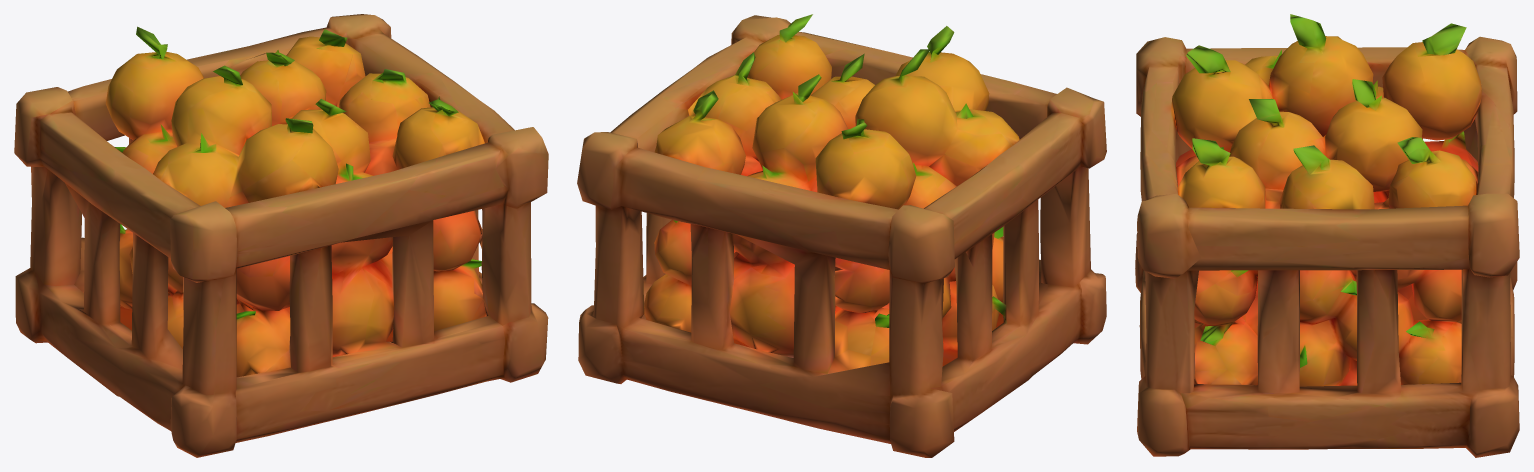
The model's file is orange_crate.glb.
The picture shows the model from 3 angles, left to right: view 1: azimuth 30°, elevation 25°; view 2: azimuth 150°, elevation 25°; view 3: azimuth 270°, elevation 25°; orthographic projection. The views are drawn at different scales.
Visible parts, largest first — view 1: tripo_node_642a2353-3705-44b5-ba30-9af71f83b32f; view 2: tripo_node_642a2353-3705-44b5-ba30-9af71f83b32f; view 3: tripo_node_642a2353-3705-44b5-ba30-9af71f83b32f.
Part boxes in pixels (x1,y1,x2,y2): tripo_node_642a2353-3705-44b5-ba30-9af71f83b32f: [14, 14, 548, 457]; tripo_node_642a2353-3705-44b5-ba30-9af71f83b32f: [577, 14, 1106, 457]; tripo_node_642a2353-3705-44b5-ba30-9af71f83b32f: [1135, 14, 1519, 457].
Size of the model in its own units: 0.4903 by 0.4 by 0.4312.
1 material, 1 textured.
